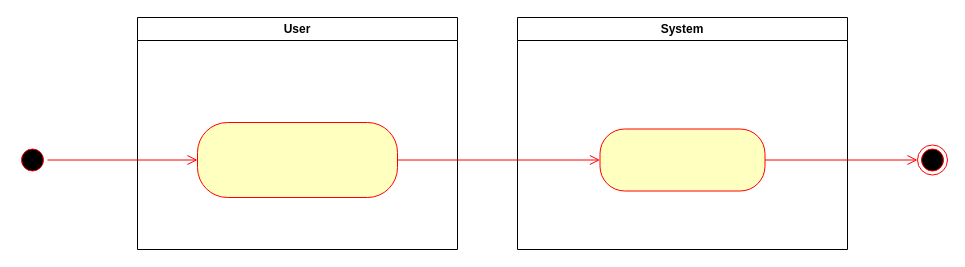
This 965x267 diagram has some shape labels left out. The centre of each missing label's shape, as x and y in pixels:
(1) On "left menu" click " CRUD payment unit – CRUD Payment unit ": point (297, 160)
(2) Load " List payment unit " Screen: point (682, 159)
